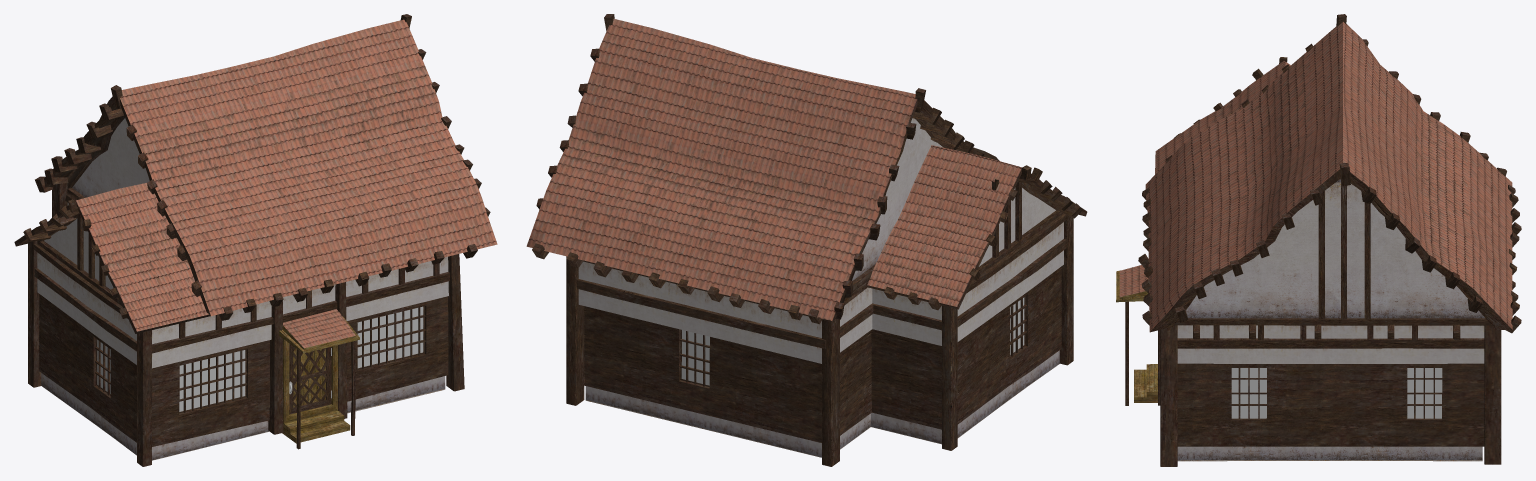
File: port_edelmann_benefactor_village.FBX
The picture shows the model from 3 angles, left to right: view 1: azimuth 30°, elevation 25°; view 2: azimuth 150°, elevation 25°; view 3: azimuth 270°, elevation 25°; orthographic projection. The views are drawn at different scales.
Visible parts, largest first — view 1: port_edelmann_benefactor_village, port_edelmann_benefactor_village_door; view 2: port_edelmann_benefactor_village; view 3: port_edelmann_benefactor_village.
Boxes of the visible parts, x1,y1,x2,y2 form: port_edelmann_benefactor_village: (14,14,497,466); port_edelmann_benefactor_village_door: (289,343,331,414); port_edelmann_benefactor_village: (526,14,1087,466); port_edelmann_benefactor_village: (1116,14,1521,466).
Size of what is drawn, in the model's own units: 1410 by 1110 by 1270.
